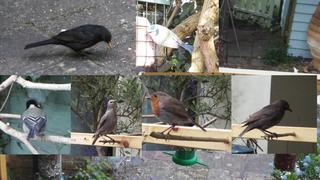blackbird: (24, 24, 112, 58)
blue tit: (145, 24, 195, 53)
great tit: (21, 99, 47, 142)
robin: (144, 91, 207, 143)
starling: (238, 99, 293, 141), (92, 99, 118, 146)
